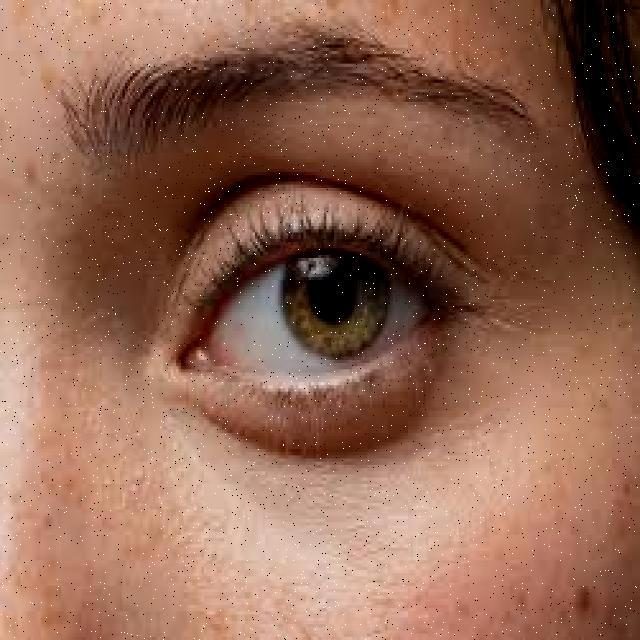Normal: (81, 140, 537, 472)
